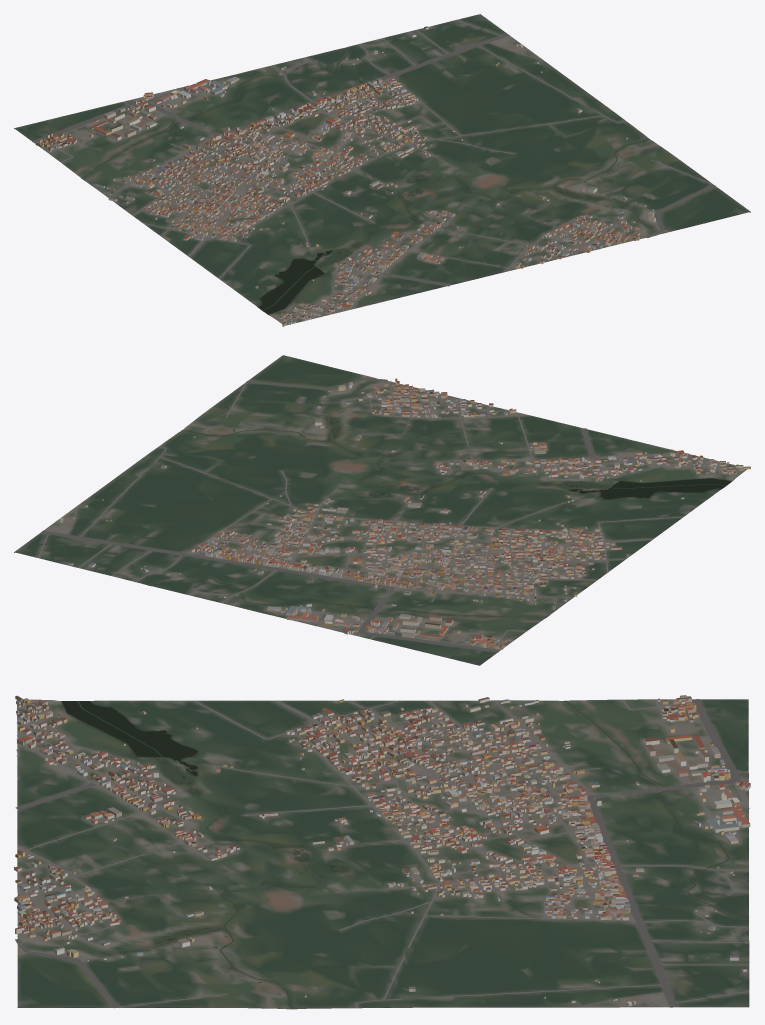
The picture shows the model from 3 angles, top to bottom: view 1: azimuth 30°, elevation 25°; view 2: azimuth 150°, elevation 25°; view 3: azimuth 270°, elevation 25°; orthographic projection. The views are drawn at different scales.
Parts seen in each view (by area): view 1: ground, buildings, roads, water; view 2: ground, buildings, roads, water; view 3: ground, buildings, roads, water.
Part boxes in pixels (<box>): ground: <box>14,14,750,325</box>; buildings: <box>35,26,655,326</box>; roads: <box>32,20,715,322</box>; water: <box>82,47,653,314</box>; ground: <box>14,355,746,665</box>; buildings: <box>60,378,750,649</box>; roads: <box>38,374,737,652</box>; water: <box>149,379,731,617</box>; ground: <box>17,699,749,1009</box>; buildings: <box>14,695,750,1006</box>; roads: <box>15,699,749,1008</box>; water: <box>17,700,748,1009</box>.
Size of the model in its own units: 1406 by 20.24 by 1412.
